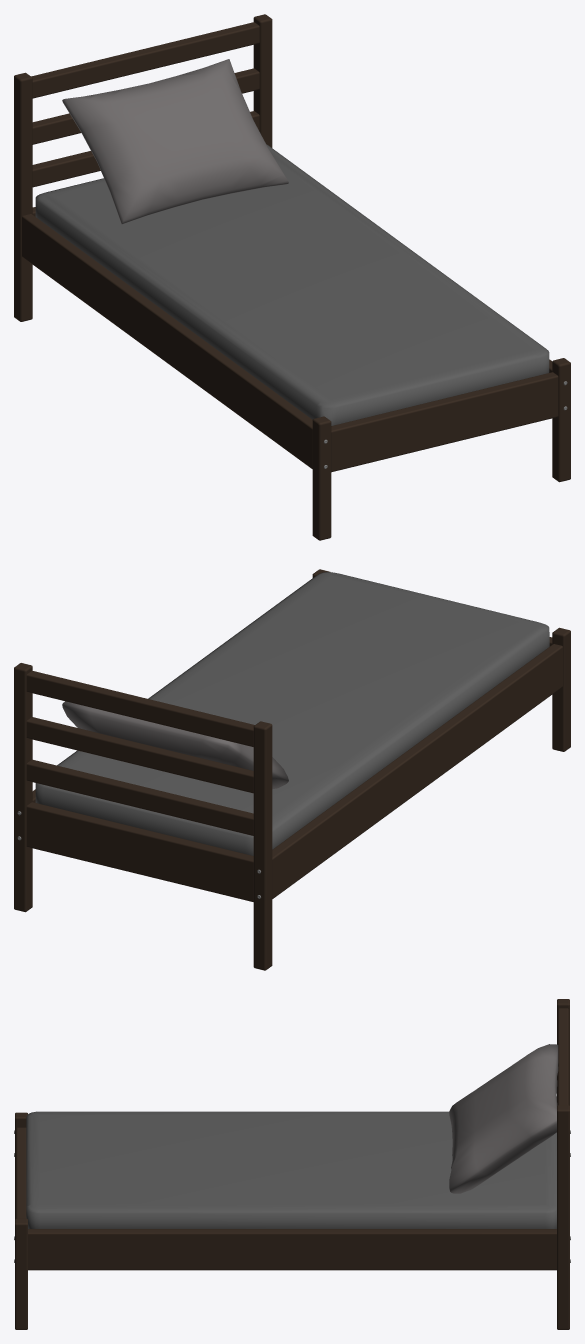
File: cama do quarto de solteiro.fbx
3 views of the same model, one above another, from view 1: azimuth 30°, elevation 25°; view 2: azimuth 150°, elevation 25°; view 3: azimuth 270°, elevation 25° (orthographic). The views are drawn at different scales.
Visible parts, largest first — view 1: cama; view 2: cama; view 3: cama.
Part boxes in pixels (x1,y1,x2,y2): cama: (14,14,570,540); cama: (14,569,570,970); cama: (14,999,570,1329).
Bounding box in the file's own units: 100 × 91.85 × 211.
